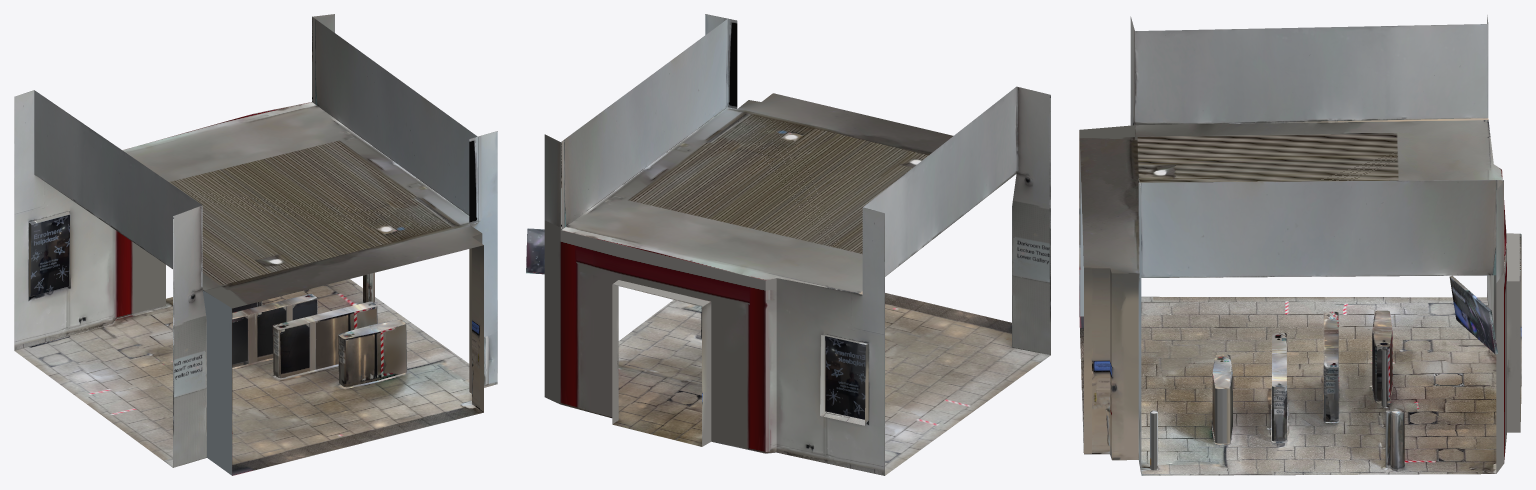
The model's file is Entrance_under_bridge.fbx.
The picture shows the model from 3 angles, left to right: view 1: azimuth 30°, elevation 25°; view 2: azimuth 150°, elevation 25°; view 3: azimuth 270°, elevation 25°; orthographic projection. The views are drawn at different scales.
Visible parts, largest first — view 1: LP_ENTRANCE_UNDER_BRIDGE; view 2: LP_ENTRANCE_UNDER_BRIDGE; view 3: LP_ENTRANCE_UNDER_BRIDGE.
Part boxes in pixels (<box>): LP_ENTRANCE_UNDER_BRIDGE: <box>14,14,497,475</box>; LP_ENTRANCE_UNDER_BRIDGE: <box>526,14,1050,475</box>; LP_ENTRANCE_UNDER_BRIDGE: <box>1079,15,1521,475</box>.
Size of the model in its own units: 682 by 484 by 678.
1 material, 1 textured.
